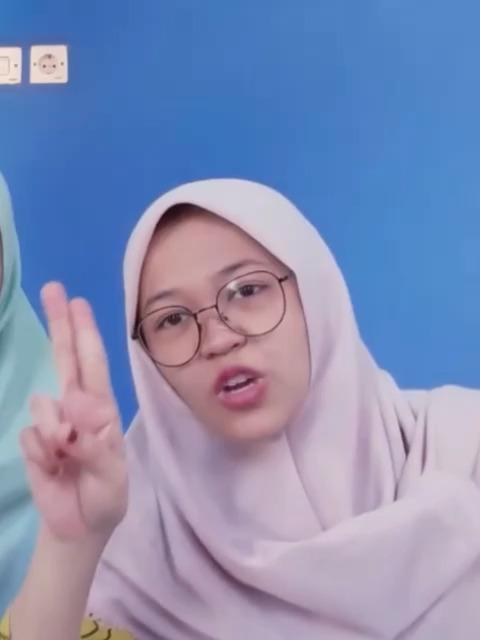U: (8, 274, 130, 548)
